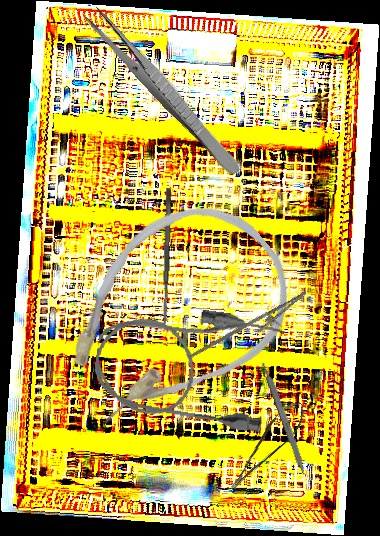Cannula: (24, 172, 319, 459), (88, 295, 287, 435)
Dressing Forceps: (81, 3, 247, 179)
Micro Scissor: (216, 396, 315, 492)
Needle Holder: (187, 277, 314, 381)
Scalpel Handle: (260, 359, 309, 477)
Spatula Surgical: (160, 187, 173, 326)
